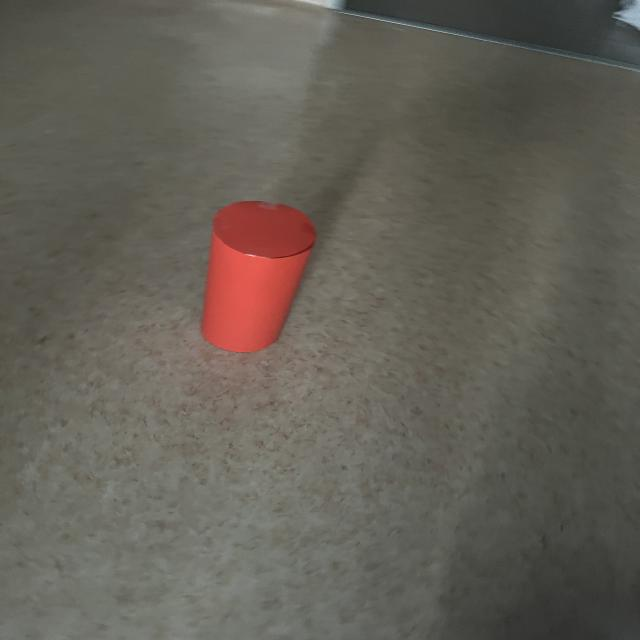przeszkoda: (201, 201, 316, 352)
